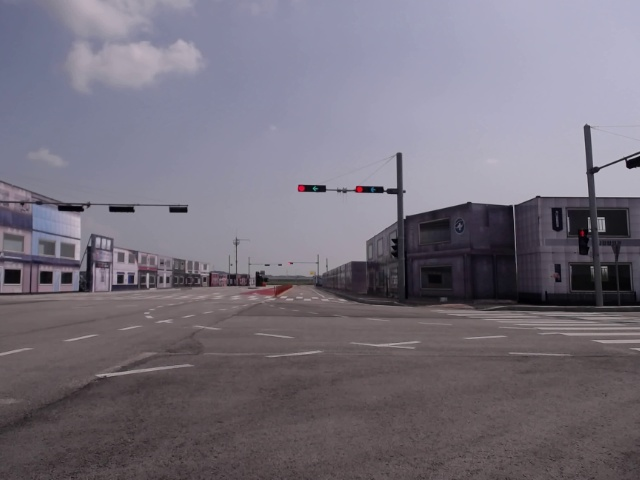left_green_4: (356, 186, 384, 193), (298, 185, 325, 192)
